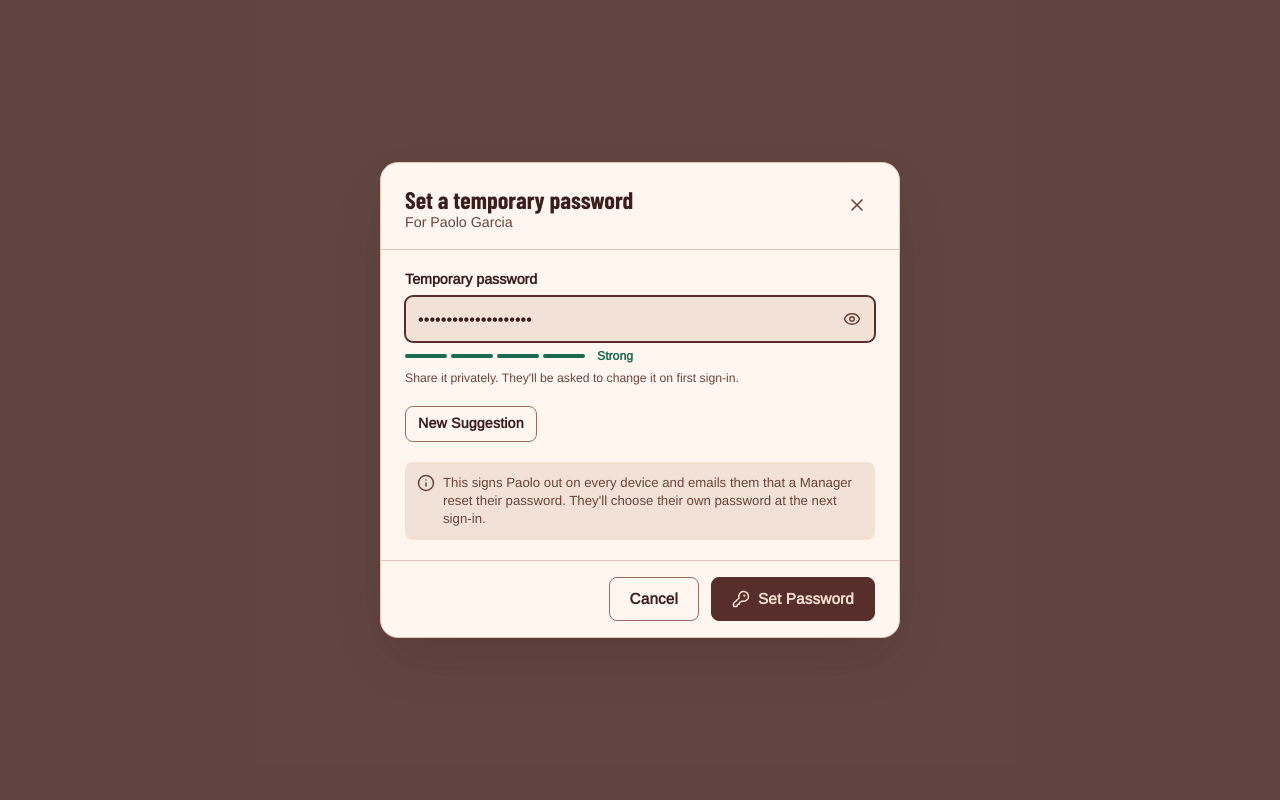
Test case: TemporaryPasswordDialog set step › words a 422 users.own-account refusal in plain English
The image size is (1280, 800).
Click the button "Set Password": [793, 599] box [711,577,875,621]
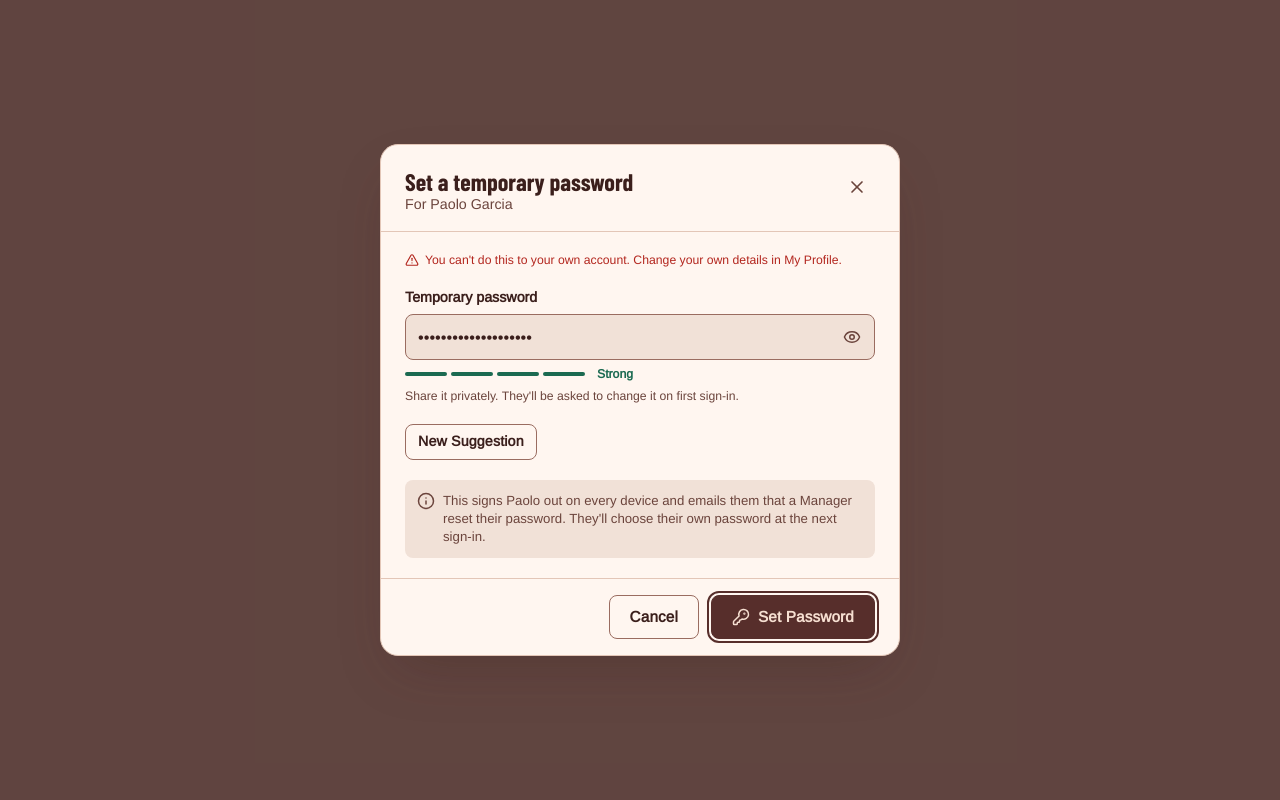
Result: the message reads "You can't do this to your own account. Change your own details in My Profile." at [425,253,842,267]
